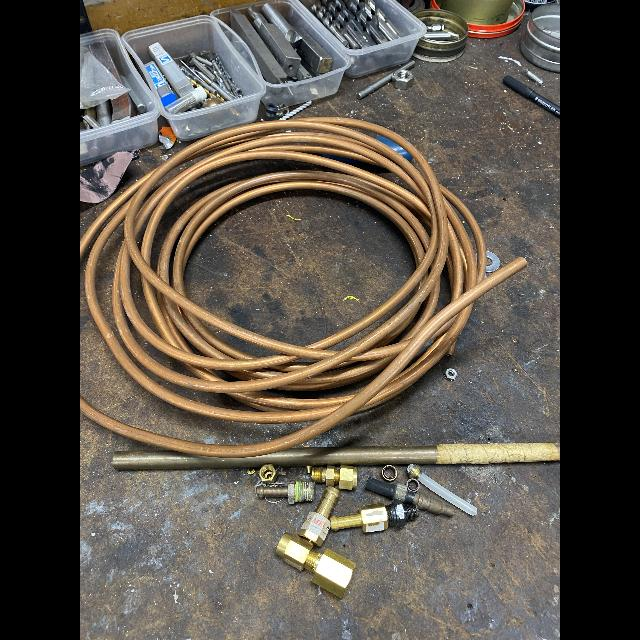Brass: (275, 532, 356, 598), (330, 503, 388, 533), (312, 465, 357, 490), (413, 494, 454, 515), (315, 486, 340, 519), (256, 483, 295, 504), (298, 529, 323, 547), (258, 464, 278, 484), (383, 466, 398, 481), (408, 465, 421, 478), (407, 479, 420, 492), (246, 467, 255, 474), (306, 466, 312, 473)
Copper: (112, 117, 448, 393), (80, 257, 528, 458), (123, 119, 431, 357), (84, 196, 348, 423), (304, 199, 438, 350), (360, 303, 474, 408), (80, 167, 158, 259), (163, 294, 258, 359), (439, 184, 486, 303), (141, 273, 195, 354), (399, 276, 441, 343), (227, 392, 360, 412), (229, 361, 317, 380), (446, 343, 455, 356)
Ferrous Metal: (486, 251, 499, 272), (445, 368, 456, 381)
